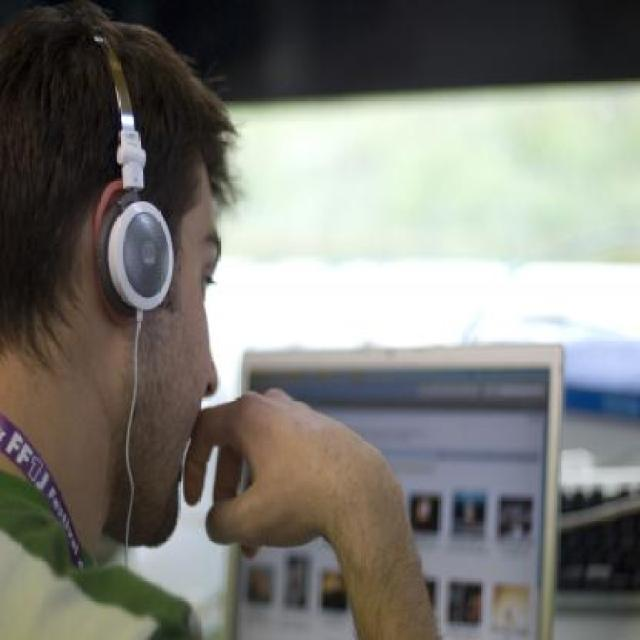earphone: (46, 0, 184, 351)
laptop_computer: (236, 296, 606, 640)
